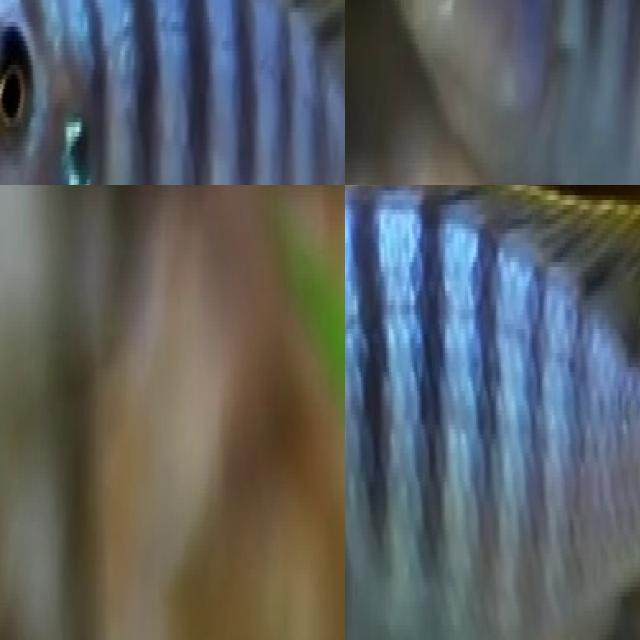fish: (345, 185, 640, 640), (0, 0, 345, 185)
